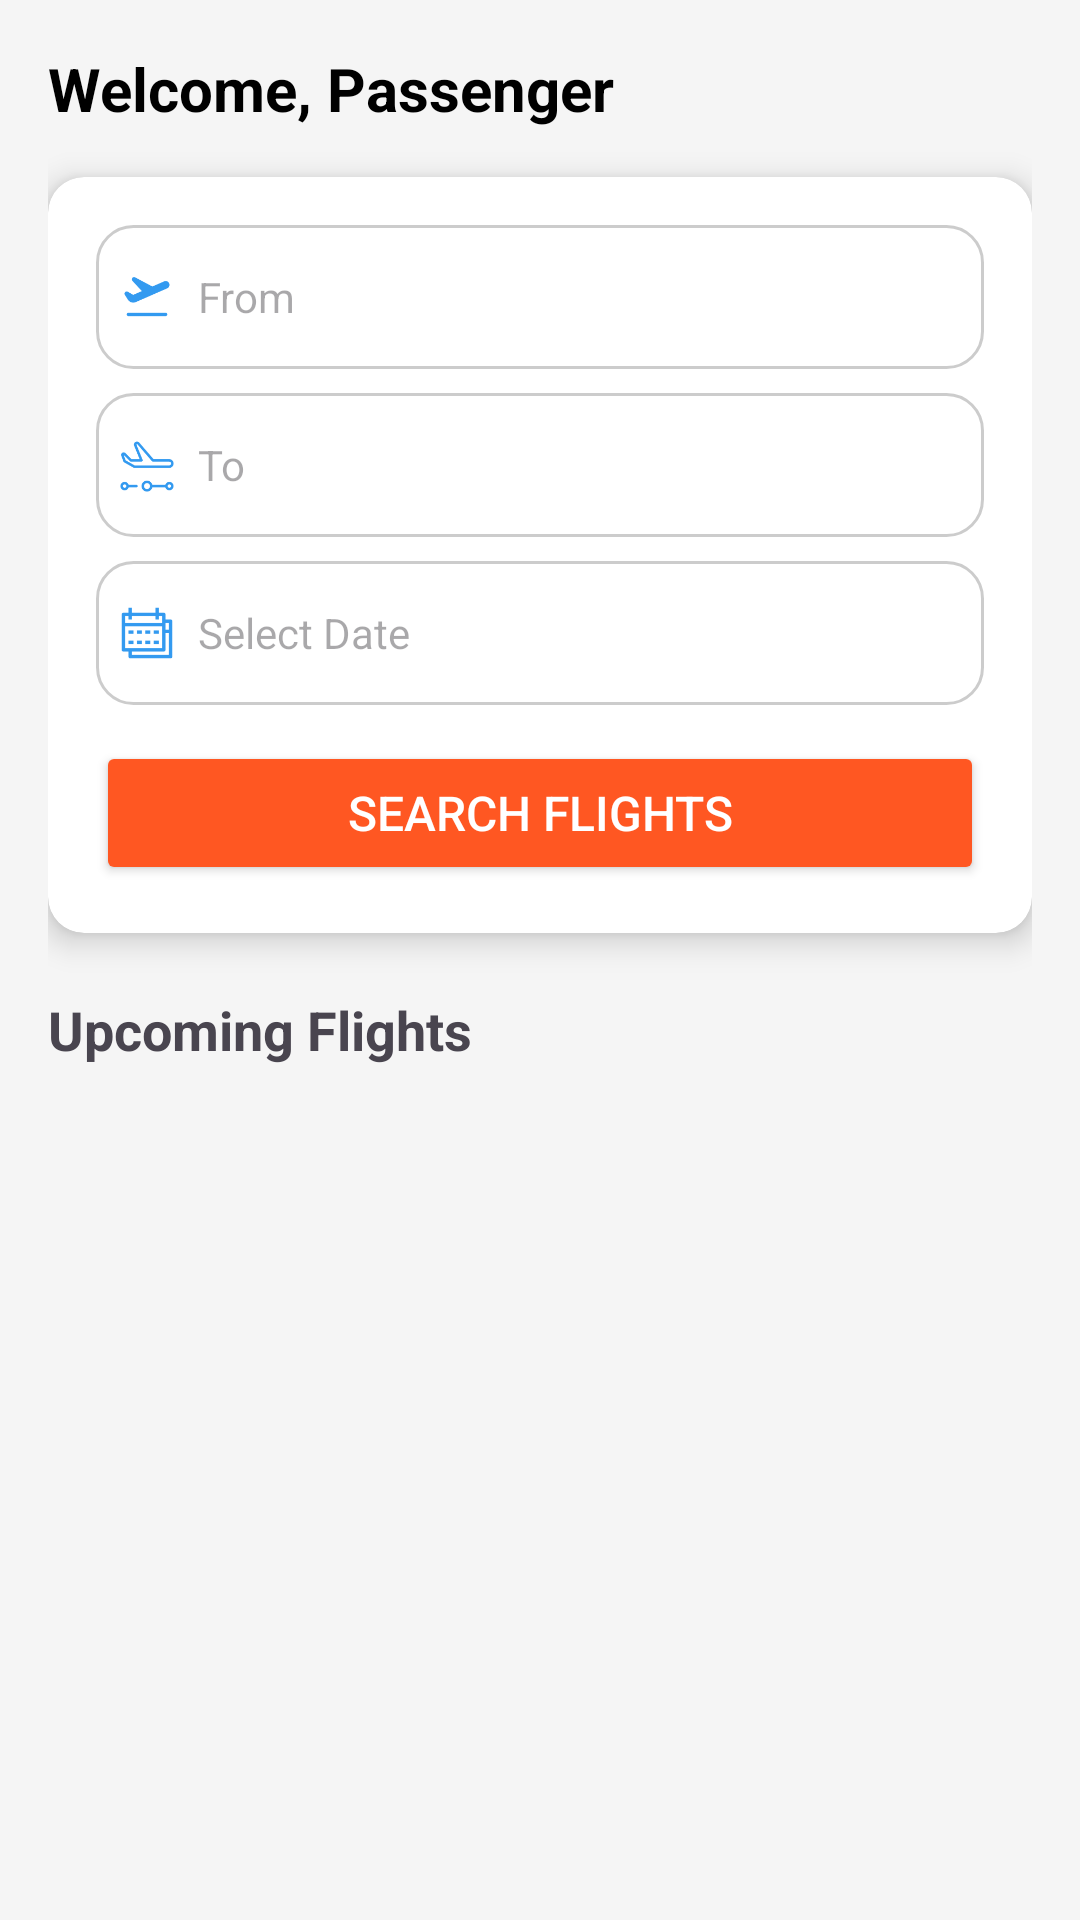

Where icons sit on this 1080x1920 app screen, as {"left": x1, "top": y1, "right": x2, "bottom": y2}:
Calendar Icon: {"left": 121, "top": 607, "right": 173, "bottom": 659}
flight land: {"left": 120, "top": 441, "right": 174, "bottom": 492}
